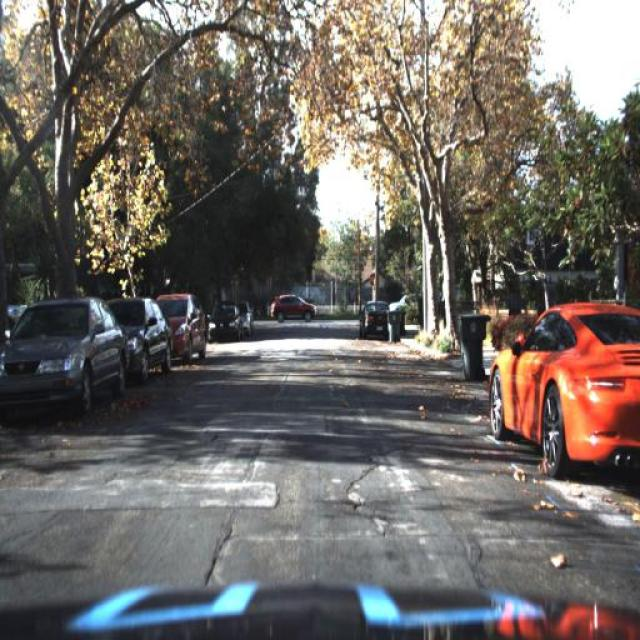car: (486, 298, 639, 497), (0, 299, 128, 421), (112, 293, 178, 387), (125, 278, 177, 397), (158, 288, 206, 362), (170, 285, 206, 373), (262, 286, 322, 329), (272, 293, 316, 326), (211, 300, 243, 341), (359, 302, 390, 338)
